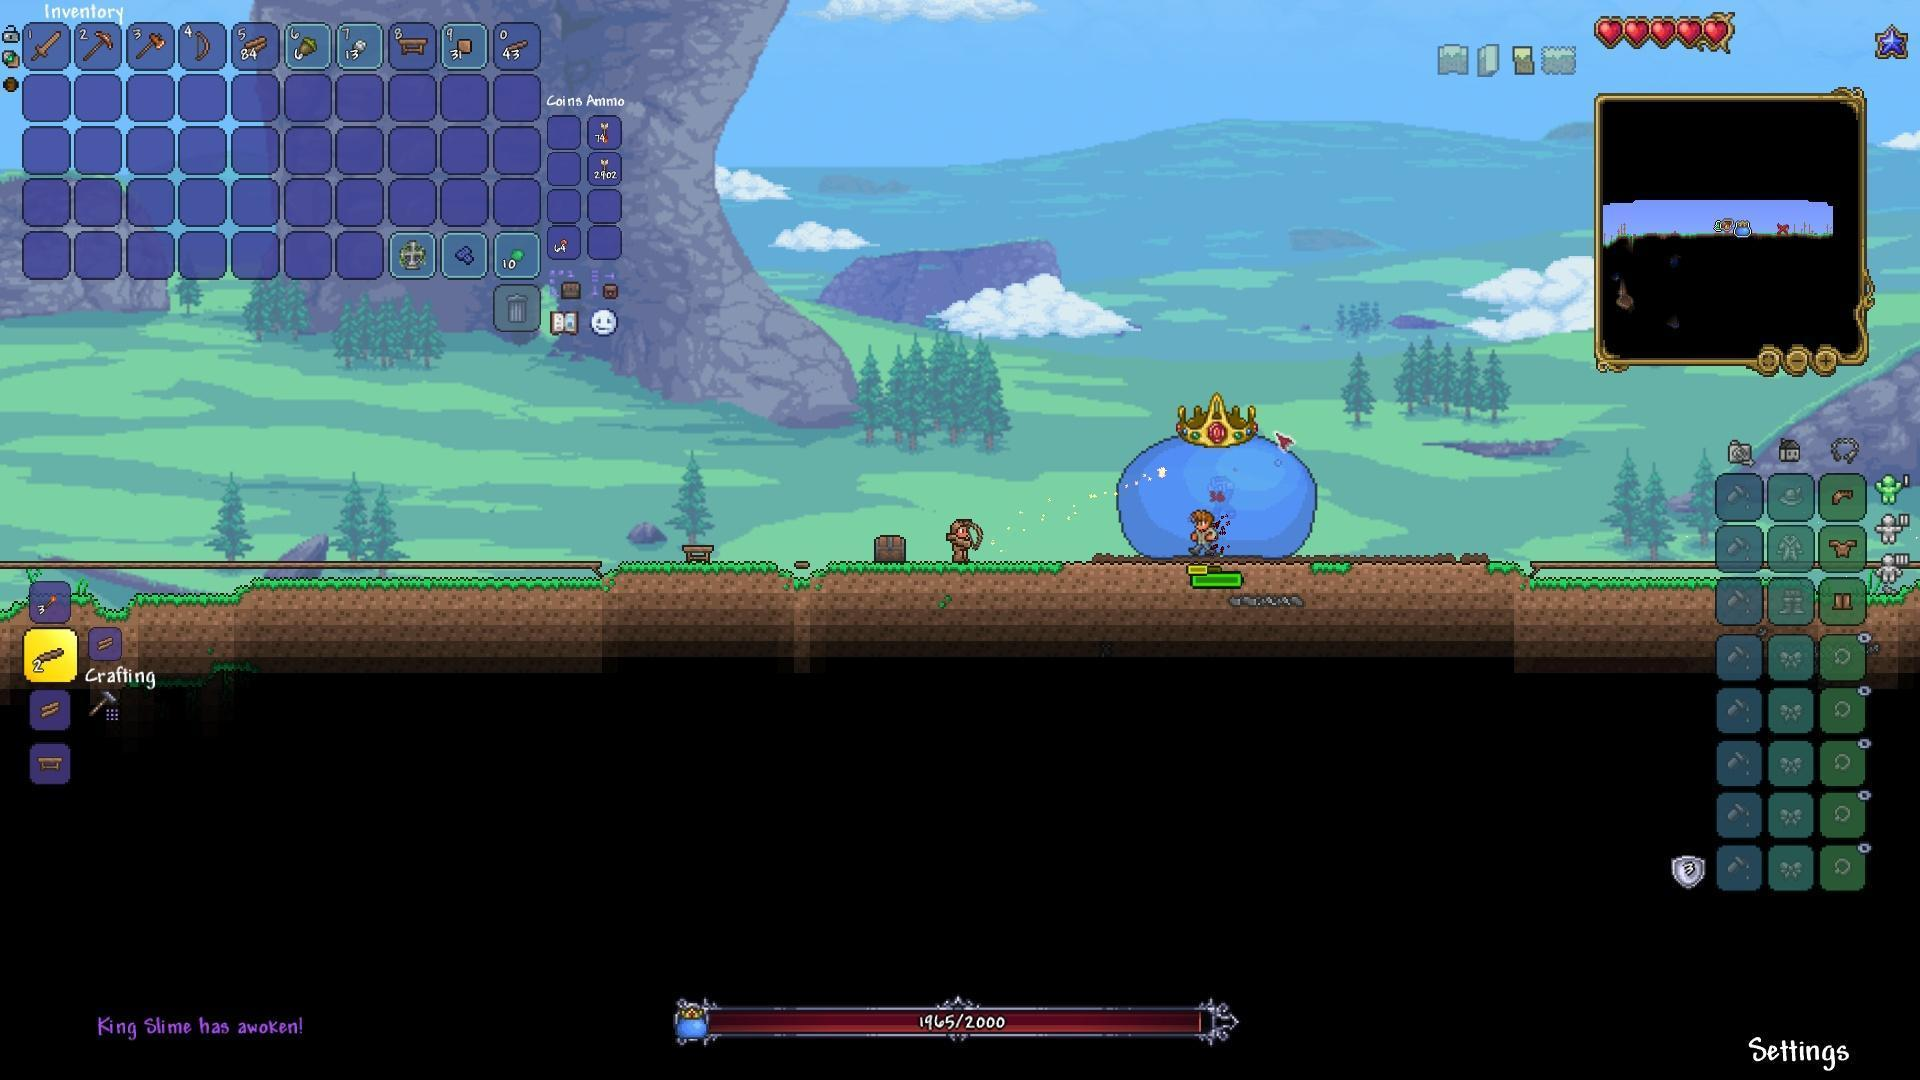breastplate: (1829, 537, 1858, 556)
helmet: (1826, 483, 1858, 512)
legs: (1830, 585, 1857, 615)
wood: (88, 628, 120, 658), (36, 695, 65, 721), (243, 34, 270, 61)
workbench: (678, 539, 715, 564), (392, 33, 429, 58), (36, 752, 67, 775)
